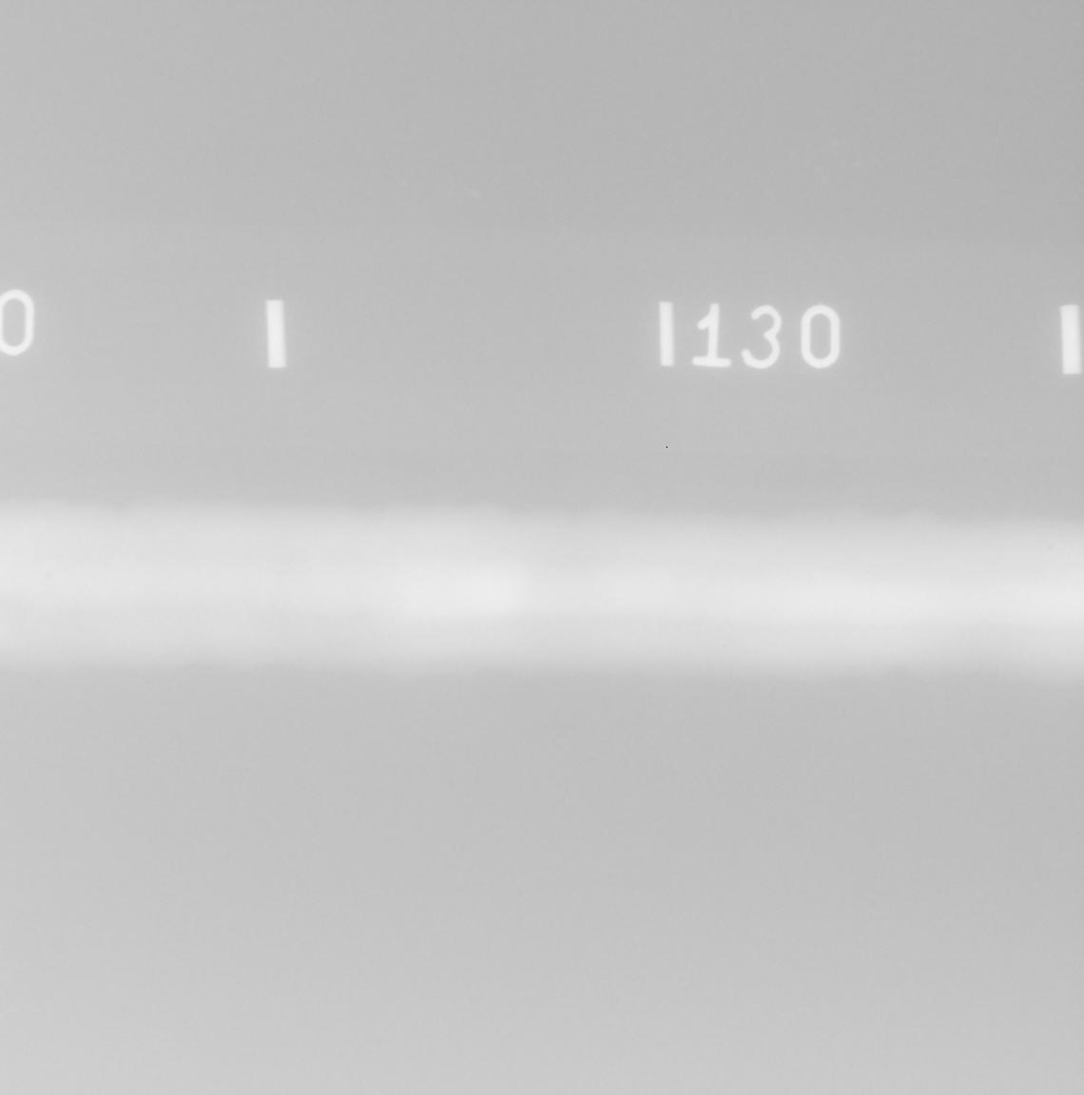Pore/Porosity: (45, 573, 52, 578), (1049, 545, 1053, 550)
